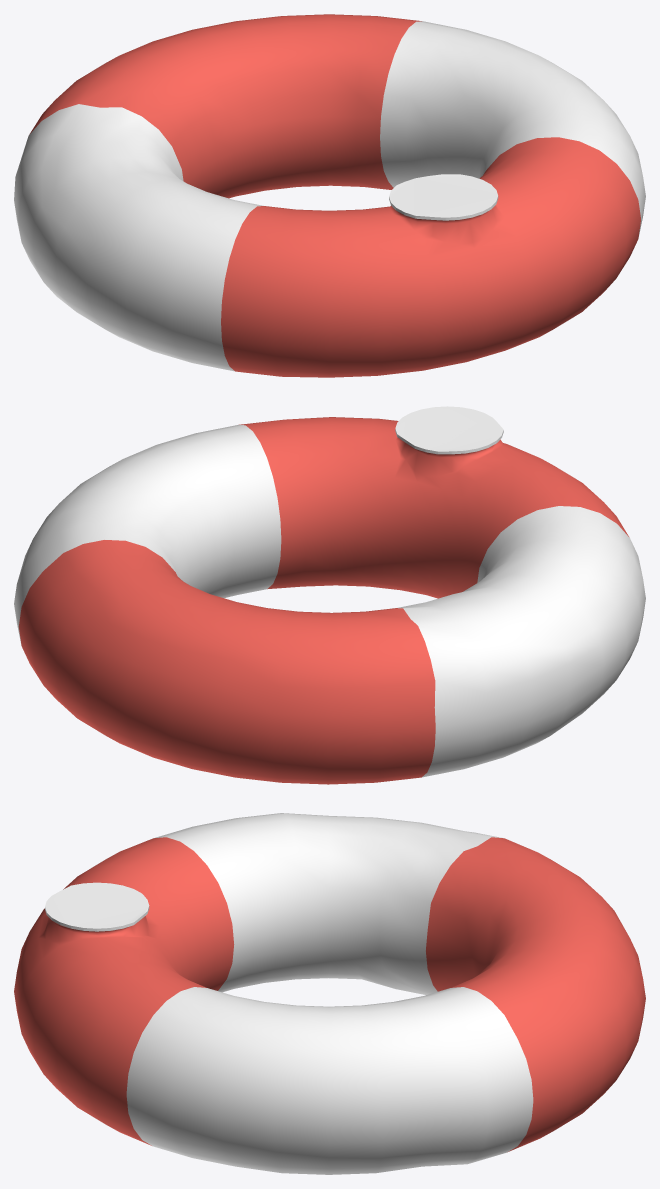
File: goodbuoy.fbx
3 views of the same model, one above another, from view 1: azimuth 30°, elevation 25°; view 2: azimuth 150°, elevation 25°; view 3: azimuth 270°, elevation 25° (orthographic).
Parts seen in each view (by area): view 1: Floater; view 2: Floater; view 3: Floater.
Part boxes in pixels (box(x1,y1,x2,y2)): Floater: box(14, 14, 645, 377); Floater: box(14, 406, 645, 784); Floater: box(14, 813, 645, 1174).
Bounding box in the file's own units: 7.87 × 2.3 × 7.9.
